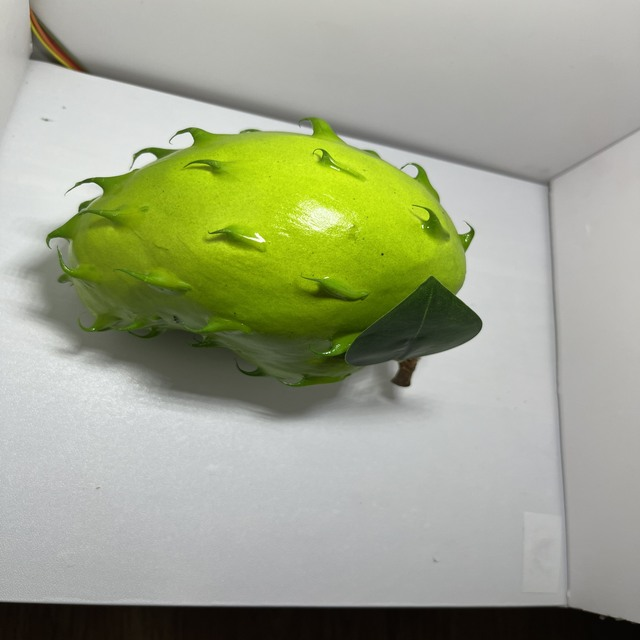Man cau: (41, 112, 495, 393)
